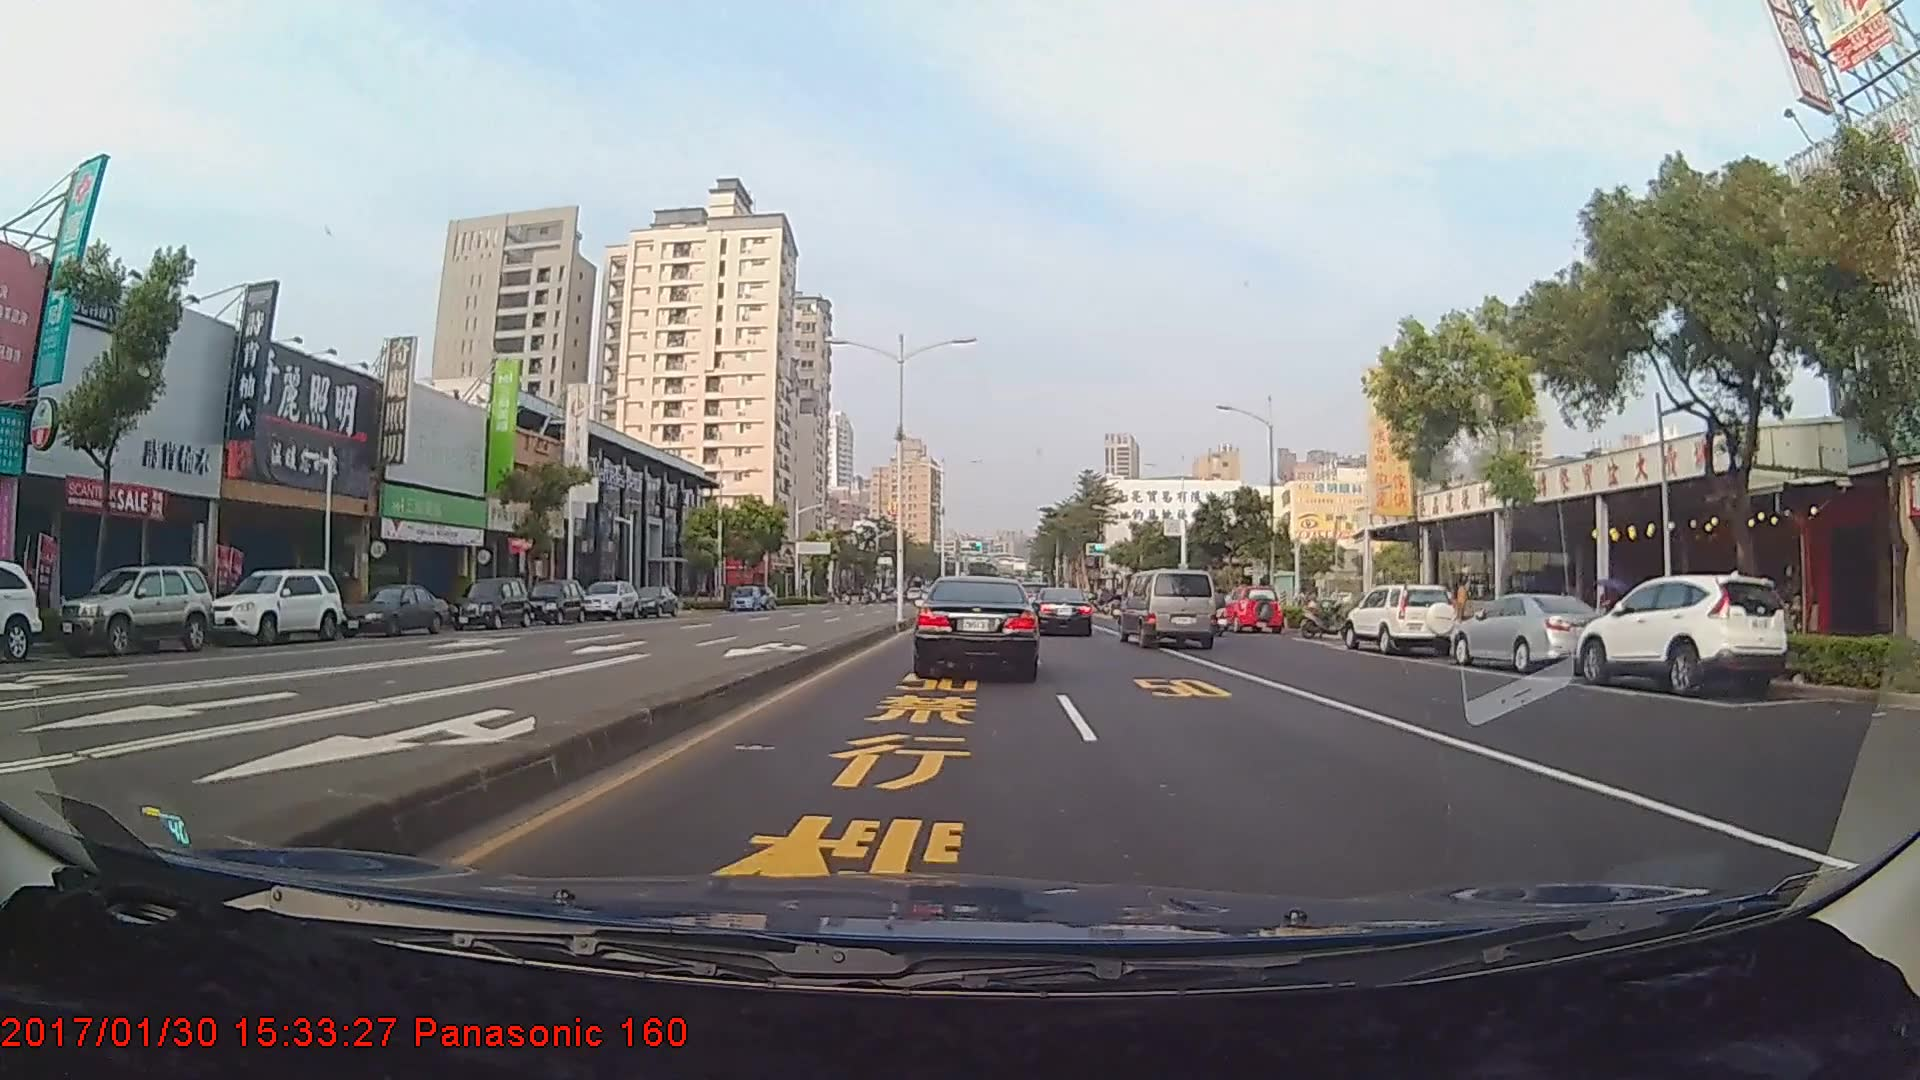vehicle: (1575, 570, 1789, 695), (54, 564, 214, 654), (1444, 589, 1611, 673), (914, 574, 1040, 680), (204, 566, 340, 644), (1341, 582, 1460, 655), (1120, 568, 1217, 649), (336, 584, 450, 636), (0, 558, 44, 661), (444, 575, 529, 628), (1033, 587, 1095, 638), (522, 578, 584, 625), (1224, 585, 1282, 634), (578, 582, 640, 622), (628, 585, 676, 618), (727, 587, 758, 615)
